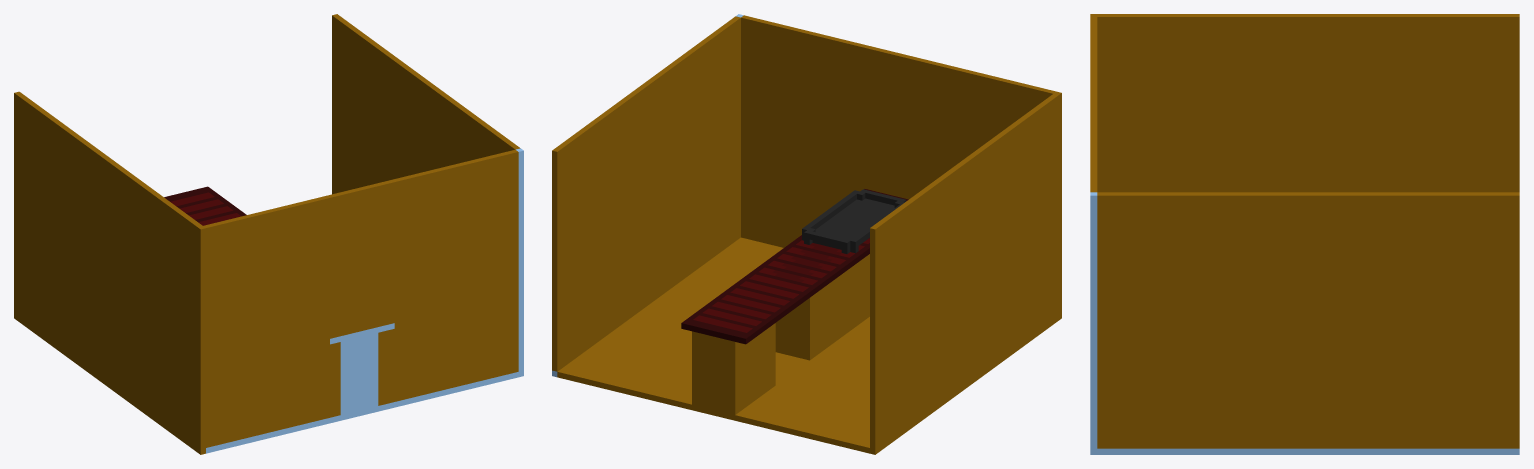
Rendered from tea room_mum.obj.
The picture shows the model from 3 angles, left to right: view 1: azimuth 30°, elevation 25°; view 2: azimuth 150°, elevation 25°; view 3: azimuth 270°, elevation 25°; orthographic projection. The views are drawn at different scales.
Bounding box in the file's own units: 6 × 4 × 6.
Materials: 1 (1 with a texture image).
